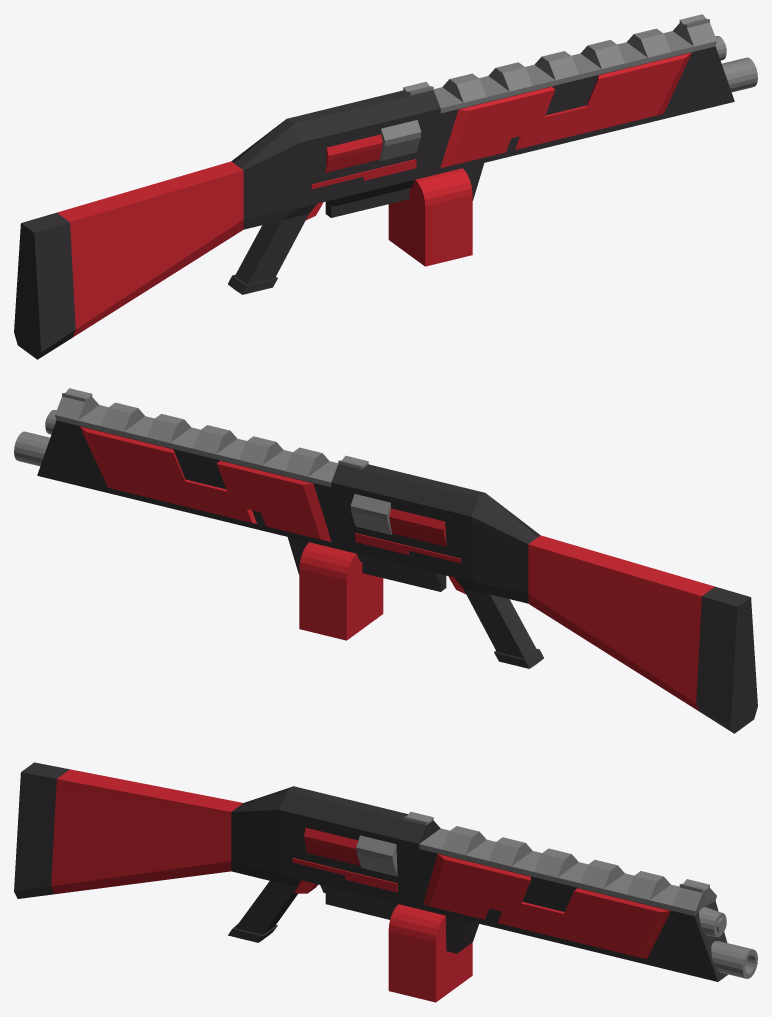
File: Arma01.fbx
3 renders of one model, top to bottom at view 1: azimuth 30°, elevation 25°; view 2: azimuth 150°, elevation 25°; view 3: azimuth 330°, elevation 25°, orthographic.
Parts seen in each view (by area): view 1: Cube.004, Cube.006, Cube.008, Cube.010, Cube.007, Cylinder.001, Cube.009; view 2: Cube.004, Cube.006, Cube.008, Cube.010, Cube.007, Cylinder.001, Cube.009; view 3: Cube.004, Cube.006, Cube.008, Cube.010, Cylinder.001, Cube.007, Cube.009, Cylinder.002.
Part boxes in pixels (box(x1,y1,x2,y2)): Cube.004: box(14, 14, 734, 359); Cube.006: box(440, 52, 691, 167); Cube.008: box(388, 168, 472, 266); Cube.010: box(325, 134, 382, 172); Cube.007: box(380, 120, 421, 161); Cylinder.001: box(722, 57, 757, 92); Cube.009: box(311, 159, 416, 189); Cube.004: box(37, 388, 757, 733); Cube.006: box(80, 426, 331, 541); Cube.008: box(299, 542, 383, 640); Cube.010: box(389, 508, 446, 546); Cube.007: box(350, 494, 391, 535); Cylinder.001: box(14, 431, 49, 466); Cube.009: box(355, 533, 460, 563); Cube.004: box(14, 762, 727, 981); Cube.006: box(423, 854, 670, 959); Cube.008: box(388, 904, 472, 1002); Cube.010: box(304, 828, 360, 865); Cylinder.001: box(711, 941, 757, 978); Cube.007: box(356, 835, 397, 876); Cube.009: box(292, 858, 397, 892); Cylinder.002: box(699, 907, 726, 937).
Bounding box in the file's own units: 97.41 × 21.92 × 8.55.
